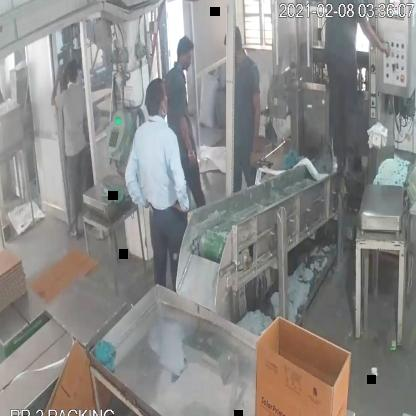no_glove: (162, 137, 193, 220), (242, 79, 269, 170), (357, 4, 395, 65), (125, 139, 152, 218), (176, 110, 201, 176)
